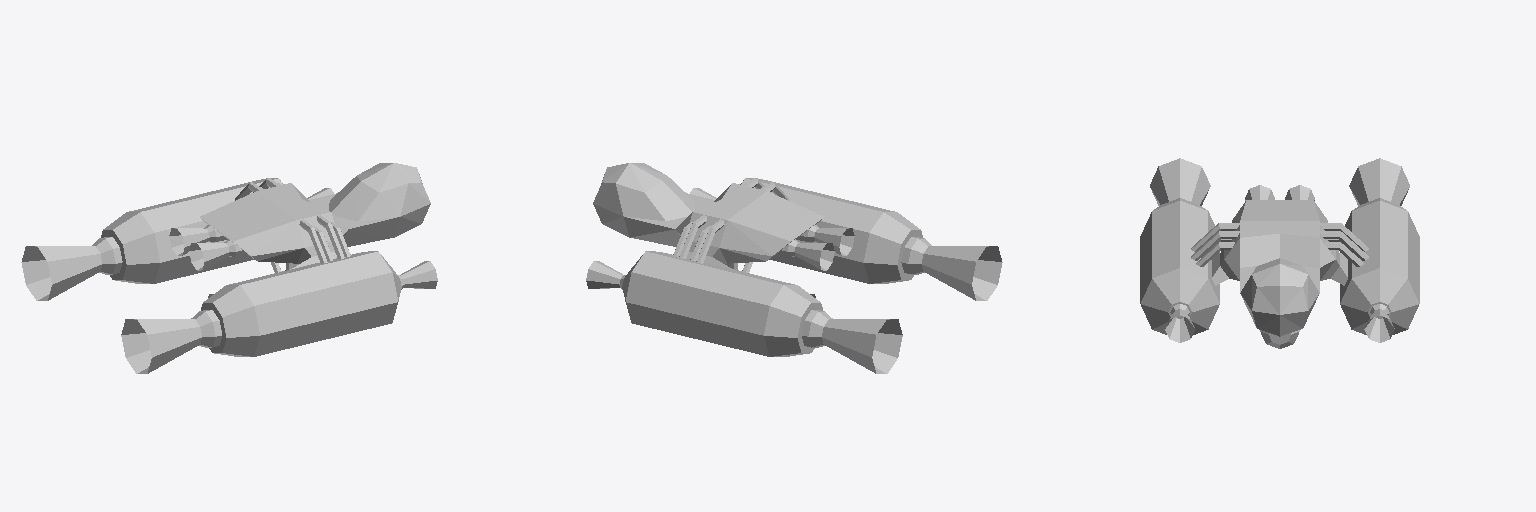
File: Ship02.obj
The picture shows the model from 3 angles: view 1: azimuth 30°, elevation 25°; view 2: azimuth 150°, elevation 25°; view 3: azimuth 270°, elevation 25°; orthographic projection.
Visible parts, largest first — view 1: Cylinder.004, Cube, Cylinder.003, Roundcube, Cylinder.001, Cylinder, Cylinder.007, Cylinder.005, Cylinder.009, Elbow_Joint.002; view 2: Cylinder.003, Cube, Cylinder.004, Roundcube, Cylinder, Cylinder.001, Cylinder.005, Cylinder.007, Cylinder.008, Elbow_Joint; view 3: Cylinder.003, Cylinder.004, Cube, Roundcube, Cylinder, Cylinder.001, Cylinder.008, Cylinder.009, Elbow_Joint, Elbow_Joint.002.
Boxes of the visible parts, <box> form: Cylinder.004: <box>201,251,401,356</box>; Cube: <box>200,183,399,269</box>; Cylinder.003: <box>101,178,283,283</box>; Roundcube: <box>329,163,430,237</box>; Cylinder.001: <box>121,310,221,373</box>; Cylinder: <box>21,237,122,300</box>; Cylinder.007: <box>189,239,246,270</box>; Cylinder.005: <box>169,225,227,255</box>; Cylinder.009: <box>398,261,437,289</box>; Elbow_Joint.002: <box>299,215,344,263</box>; Cylinder.003: <box>622,251,822,356</box>; Cube: <box>624,183,823,269</box>; Cylinder.004: <box>740,178,922,283</box>; Roundcube: <box>593,163,694,237</box>; Cylinder: <box>802,310,902,373</box>; Cylinder.001: <box>901,237,1002,300</box>; Cylinder.005: <box>777,239,834,270</box>; Cylinder.007: <box>796,225,854,255</box>; Cylinder.008: <box>586,261,625,289</box>; Elbow_Joint: <box>679,215,724,263</box>; Cylinder.003: <box>1340,198,1419,334</box>; Cylinder.004: <box>1140,198,1219,334</box>; Cube: <box>1212,200,1347,292</box>; Roundcube: <box>1240,258,1319,336</box>; Cylinder: <box>1349,158,1409,205</box>; Cylinder.001: <box>1150,158,1210,205</box>; Cylinder.008: <box>1364,304,1394,342</box>; Cylinder.009: <box>1165,304,1195,342</box>; Elbow_Joint: <box>1320,223,1368,260</box>; Elbow_Joint.002: <box>1191,223,1239,260</box>.
Bounding box in the file's own units: 9.8 × 3.3 × 7.